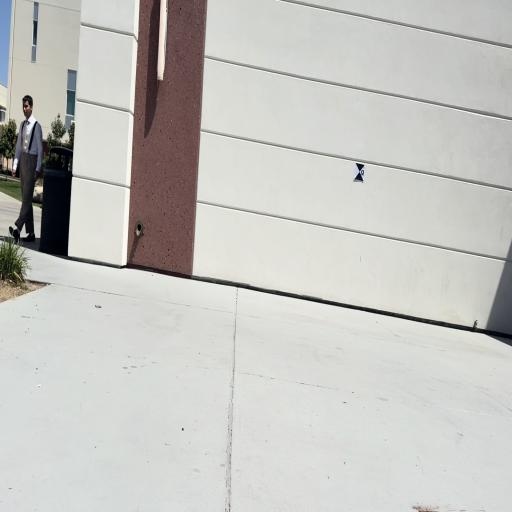target0: (354, 162, 365, 182)
